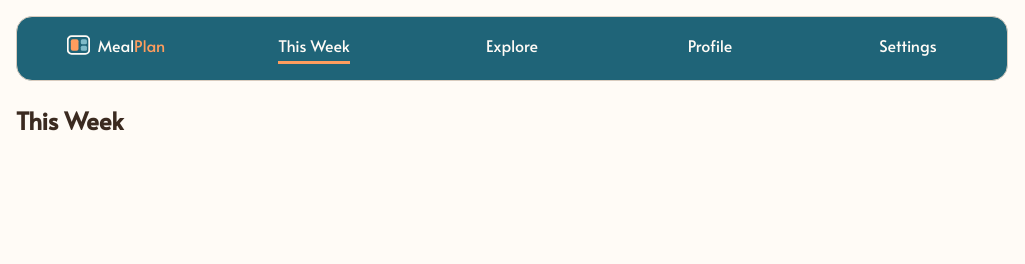
Test: Settings explains when the profile cannot be loaded and still offers Sign Out
The width and height of the screenshot is (1025, 264).
Expected: the element showing "MealPlan This Week Explore Profile Settings" is shown, [16, 16, 1008, 81]
What coordinates should you click on to do the following:
click the tab "Settings"
I would click on:
 (908, 48)
Its box is [809, 17, 1007, 80].
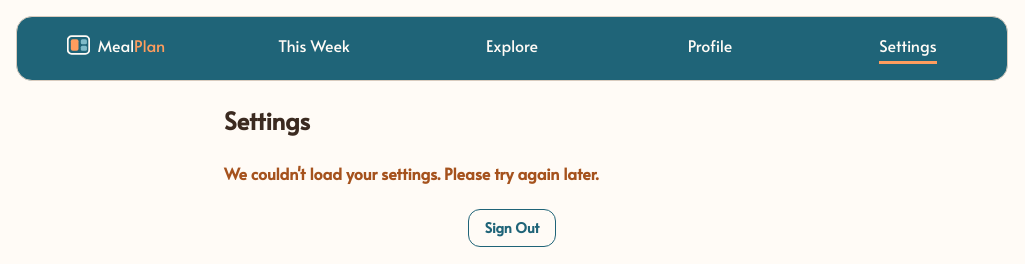
Result: the message shows "We couldn't load your settings" at [224, 162, 598, 184]
Result: the button "Sign Out" is shown at [468, 209, 556, 247]
